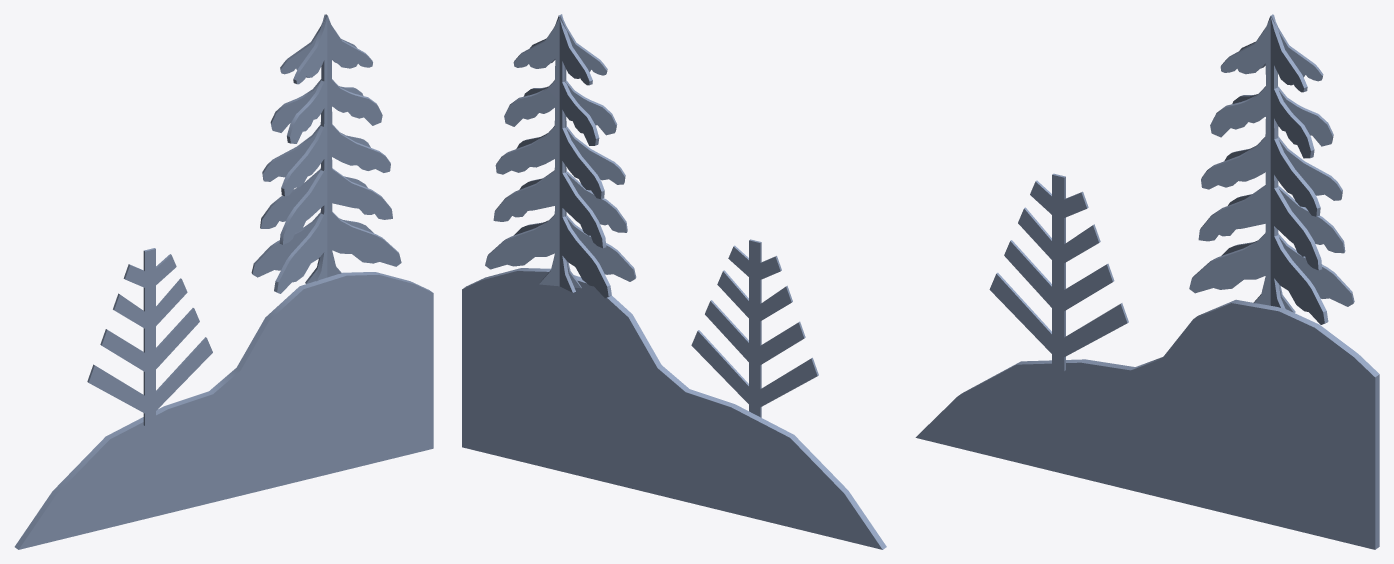
The model's file is frame_0145.glb.
The picture shows the model from 3 angles, left to right: view 1: azimuth 30°, elevation 25°; view 2: azimuth 150°, elevation 25°; view 3: azimuth 330°, elevation 25°; orthographic projection. The views are drawn at different scales.
Parts seen in each view (by area): view 1: export_trees_001.002; view 2: export_trees_001.002; view 3: export_trees_001.002.
Boxes of the visible parts, x1,y1,x2,y2 form: export_trees_001.002: (14, 14, 433, 549); export_trees_001.002: (462, 14, 886, 549); export_trees_001.002: (915, 14, 1379, 549).
Bounding box in the file's own units: 0.2511 × 0.2619 × 0.0288.
